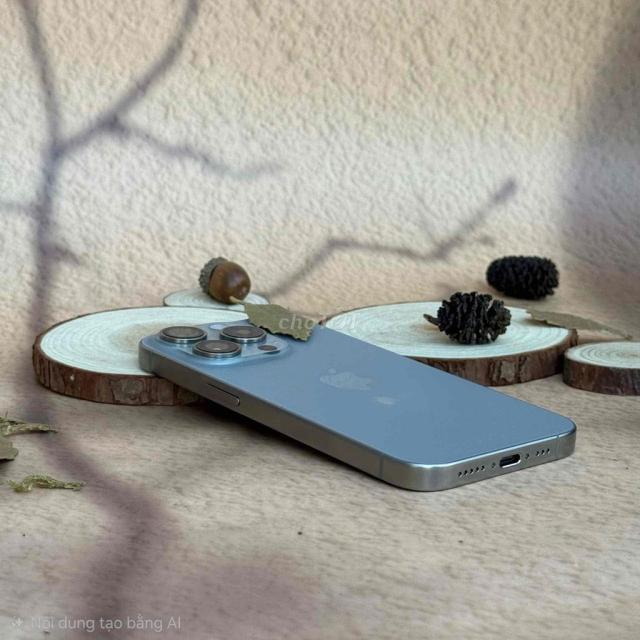gen_15: (137, 298, 579, 513)
